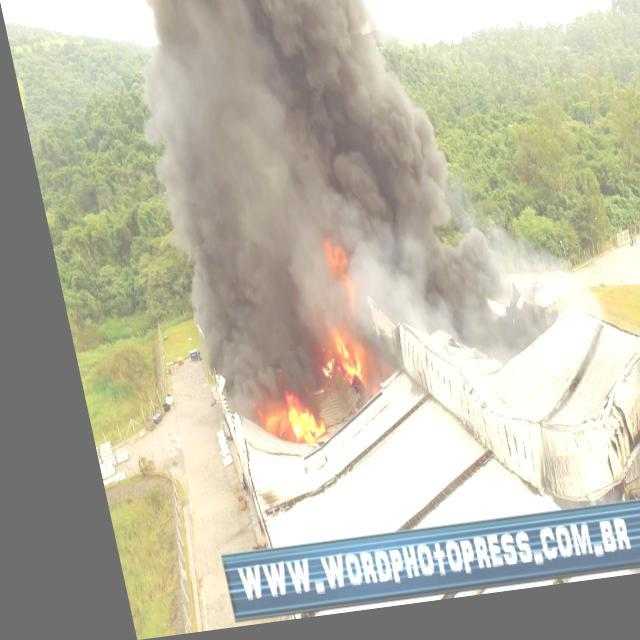Fire: (231, 388, 310, 459), (298, 328, 356, 399), (310, 244, 348, 328)
